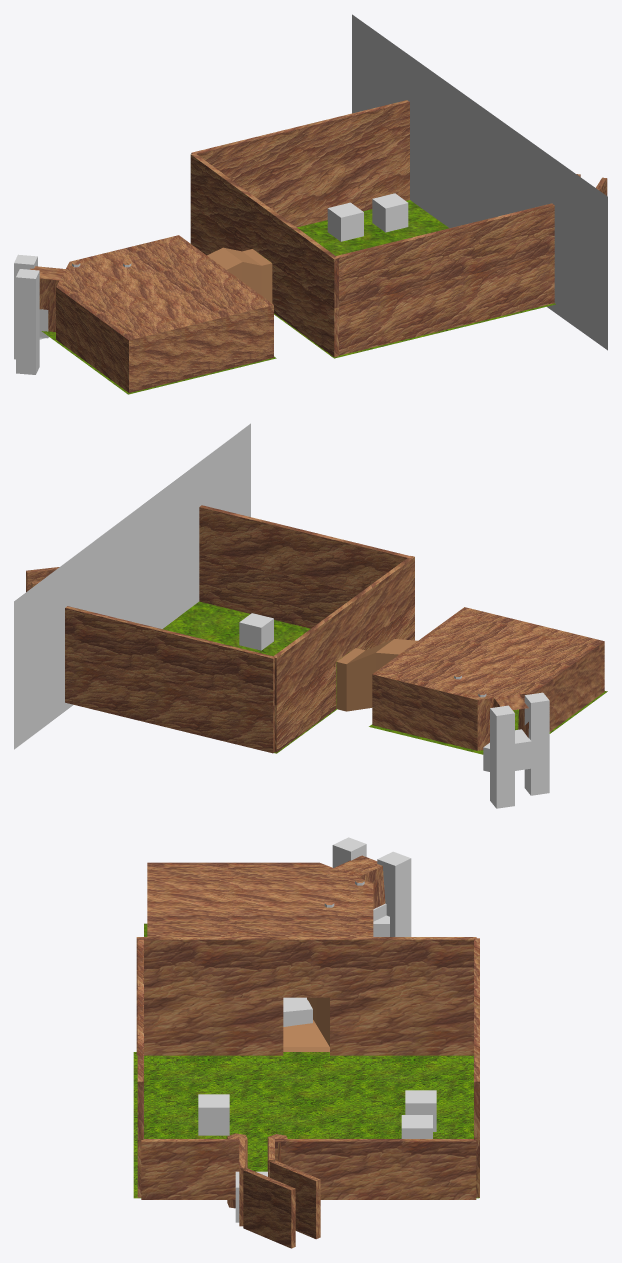
Rendered from testlvlb.glb.
3 renders of one model, top to bottom at view 1: azimuth 30°, elevation 25°; view 2: azimuth 150°, elevation 25°; view 3: azimuth 270°, elevation 25°, orthographic. The views are drawn at different scales.
Visible parts, largest first — view 1: Cube.014, testlvl2-lb-chckpoint, Plane.001, Cube.007, Cube.022, Cube.020, Plane.002, Cube.006; view 2: Cube.014, testlvl2-lb-chckpoint, Plane.001, Cube.006, Cube.007, Cube.021, Cube.005, Plane.002; view 3: Cube.014, Plane.001, Cube.006, Cube.021, Cube.002, Cube.022, Cube, Cube.020, Cube.007.
Boxes of the visible parts, left/top/right/bottom form: Cube.014: left=30, top=100, right=607, bottom=392; testlvl2-lb-chckpoint: left=352, top=14, right=607, bottom=350; Plane.001: left=258, top=200, right=555, bottom=358; Cube.007: left=16, top=269, right=39, bottom=374; Cube.022: left=327, top=202, right=363, bottom=241; Cube.020: left=372, top=193, right=408, bottom=232; Plane.002: left=41, top=331, right=276, bottom=394; Cube.006: left=14, top=254, right=37, bottom=359; Cube.014: left=26, top=505, right=604, bottom=753; testlvl2-lb-chckpoint: left=14, top=423, right=250, bottom=749; Plane.001: left=162, top=601, right=349, bottom=753; Cube.006: left=490, top=705, right=514, bottom=808; Cube.007: left=524, top=692, right=549, bottom=795; Cube.021: left=239, top=613, right=273, bottom=650; Cube.005: left=515, top=729, right=531, bottom=770; Plane.002: left=369, top=691, right=607, bottom=754; Cube.014: left=136, top=855, right=479, bottom=1248; Plane.001: left=133, top=1052, right=478, bottom=1198; Cube.006: left=377, top=851, right=411, bottom=936; Cube.021: left=198, top=1094, right=229, bottom=1135; Cube.002: left=283, top=1020, right=329, bottom=1051; Cube.022: left=405, top=1090, right=436, bottom=1131; Cube: left=283, top=997, right=312, bottom=1026; Cube.020: left=401, top=1115, right=432, bottom=1138; Cube.007: left=332, top=837, right=366, bottom=867.
Bounding box in the file's own units: 198 × 58.11 × 152.
Materials: 2 (2 with a texture image).
